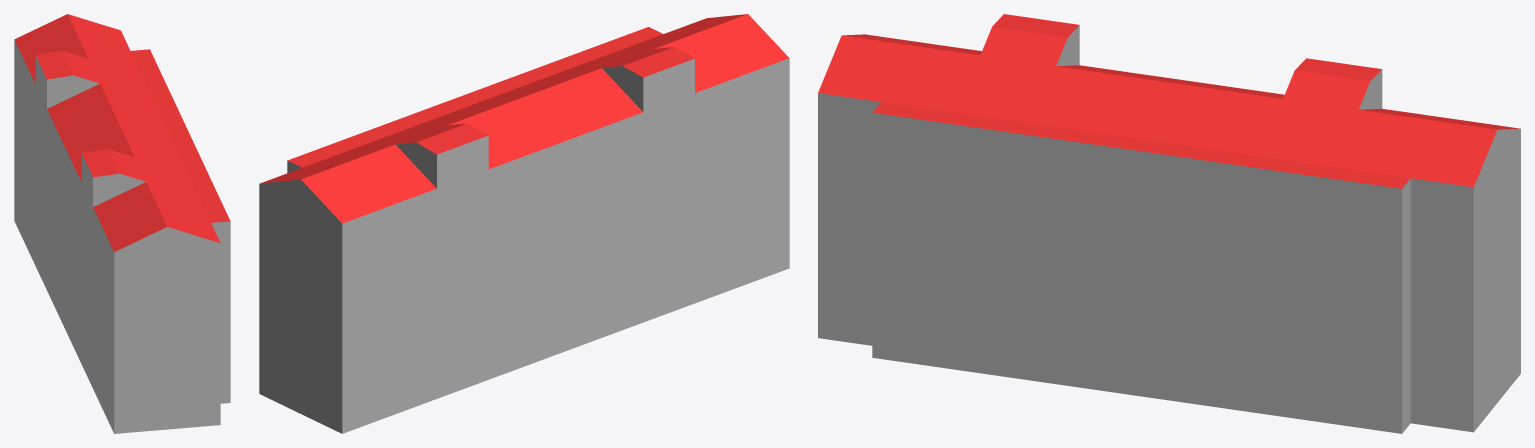
The model's file is pb-9635c106-7f36-11f0-934b-9c7bef4dcf4c.dae.
3 renders of one model, left to right at view 1: azimuth 30°, elevation 25°; view 2: azimuth 150°, elevation 25°; view 3: azimuth 270°, elevation 25°, orthographic. The views are drawn at different scales.
Bounding box in the file's own units: 27.45 × 52.77 × 23.8.
